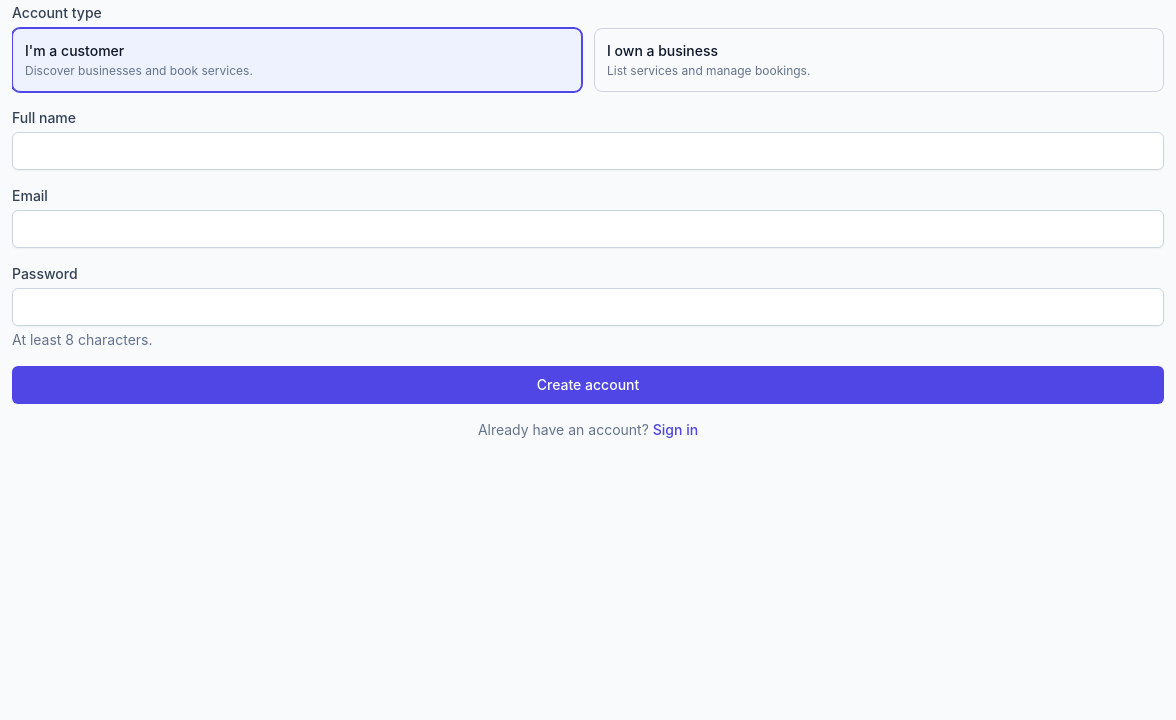
Test: RegisterForm › surfaces a backend validation error (e.g. duplicate email)
In the field labelled "Full name": (588, 151) top-left (12, 132), bottom-right (1164, 170), type "Jane Doe"
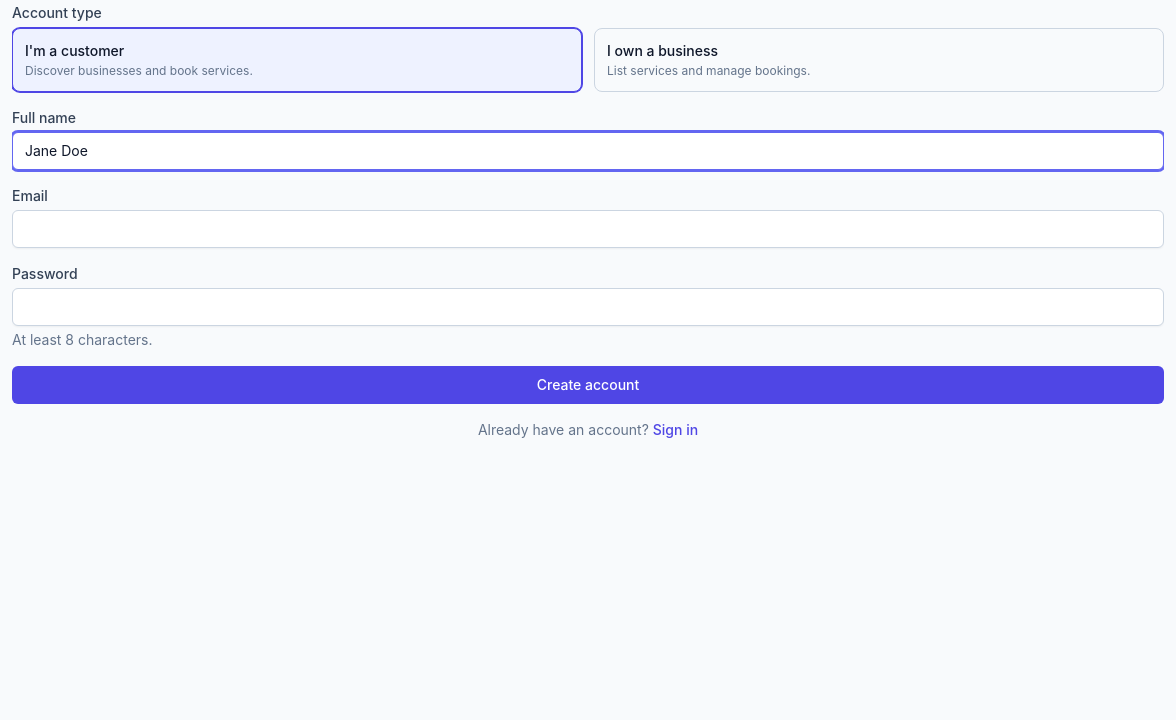
In the field labelled "Email": (588, 229) top-left (12, 210), bottom-right (1164, 248), type "jane@example.com"
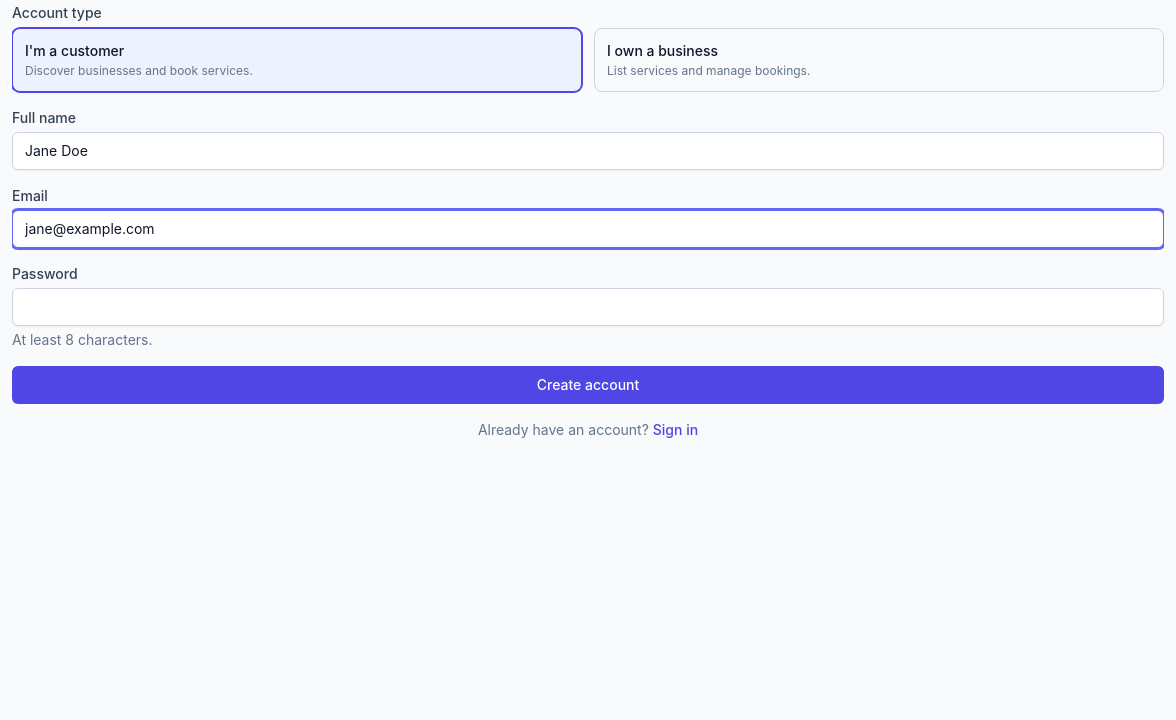
In the password field labelled "Password": (588, 307) top-left (12, 288), bottom-right (1164, 326), type "password123"
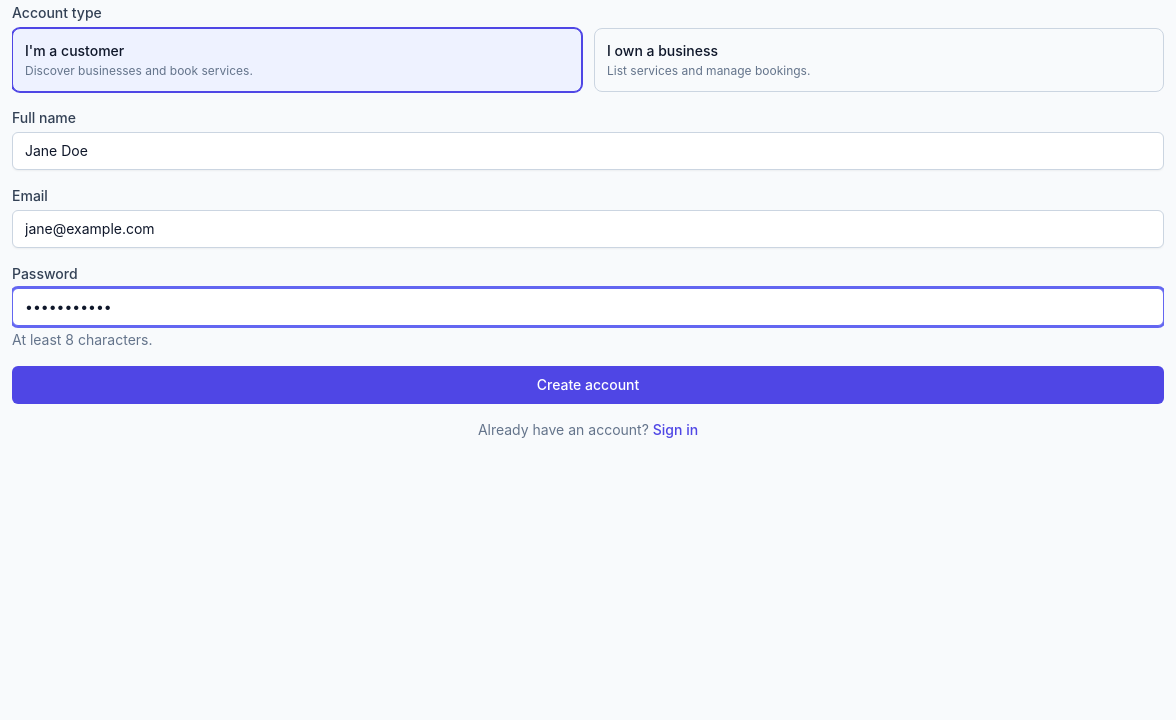
Click the button "Create account": (588, 385) top-left (12, 366), bottom-right (1164, 404)
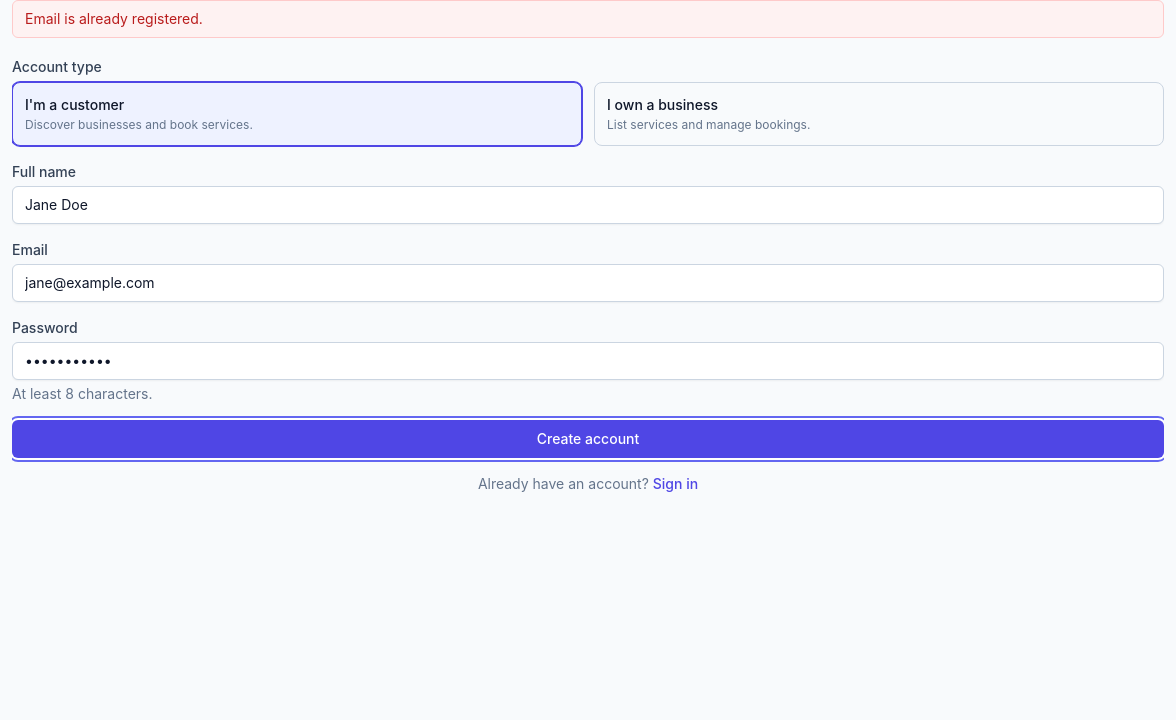
Result: the text "Email is already registered." is shown at top-left (12, 0), bottom-right (1164, 38)
